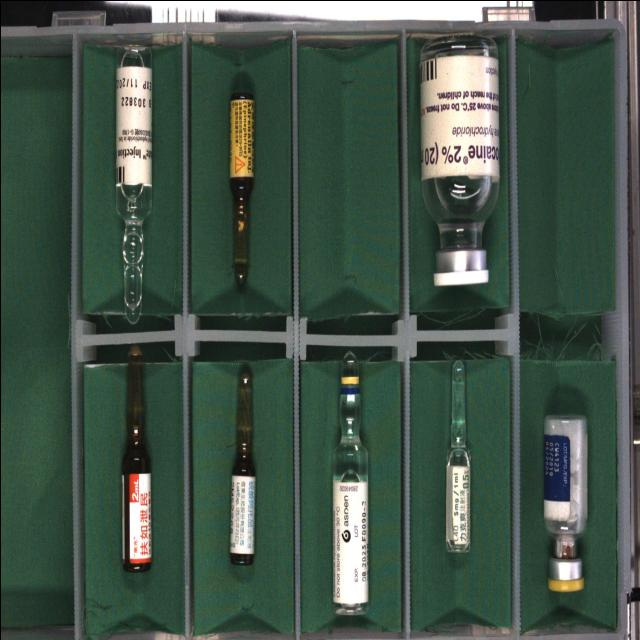Vials: (419, 36, 499, 284), (543, 414, 586, 591)
